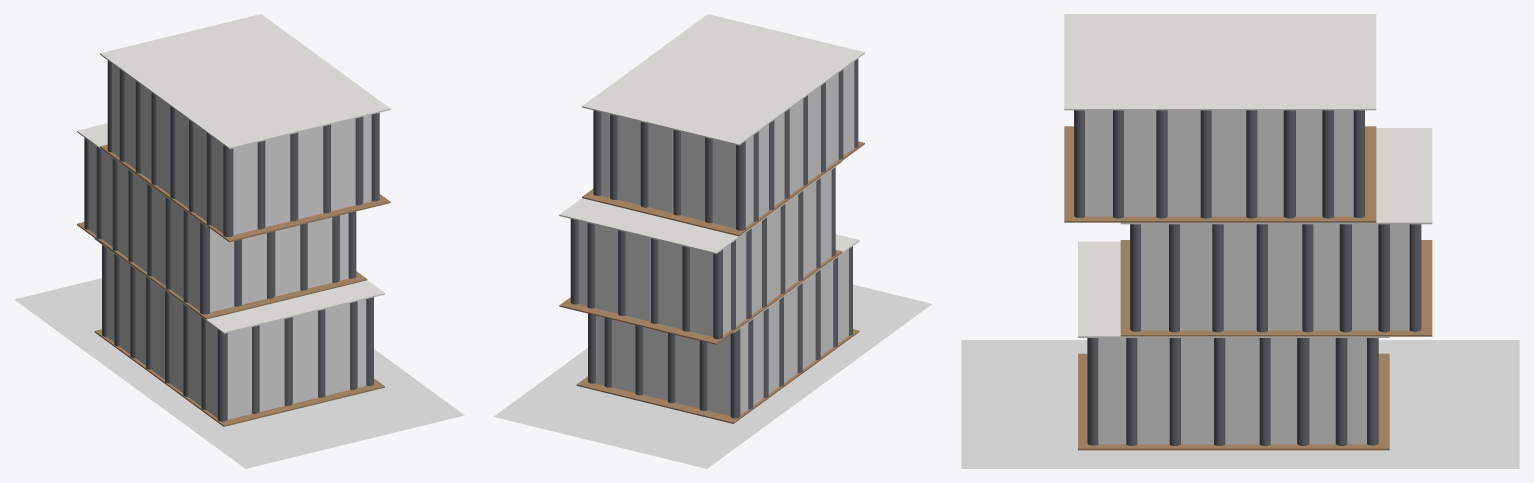
File: house.fbx
The picture shows the model from 3 angles, left to right: view 1: azimuth 30°, elevation 25°; view 2: azimuth 150°, elevation 25°; view 3: azimuth 270°, elevation 25°; orthographic projection. The views are drawn at different scales.
Visible parts, largest first — view 1: Floor_1_Ceiling.004, Plane, Glass_1.019, Glass_1.004, Glass_1.002, Glass_1.011, Glass_1.012, Glass_1.020, Floor_1_Ceiling, Floor_1_Floor.004, Floor_1_Floor, Floor_1_Floor.002 (+31 smaller); view 2: Floor_1_Ceiling.004, Plane, Glass_1.008, Glass_1.017, Glass_1.001, Glass_1.002, Glass_1.012, Glass_1.020, Floor_1_Ceiling.002, Floor_1_Floor.004, Floor_1_Floor, Floor_1_Floor.002 (+30 smaller); view 3: Plane, Floor_1_Ceiling.004, Glass_1.018, Glass_1.009, Glass_1.003, Floor_1_Ceiling.002, Floor_1_Ceiling, Floor_1_Floor, Floor_1_Floor.002, Floor_1_Floor.004, Floor_1_Column_23.004, Floor_1_Column_23.002 (+22 smaller).
Part boxes in pixels (x1,y1,x2,y2): Floor_1_Ceiling.004: (100, 14, 390, 149); Plane: (14, 278, 464, 468); Glass_1.019: (233, 114, 371, 234); Glass_1.004: (227, 299, 366, 419); Glass_1.002: (106, 248, 217, 417); Glass_1.011: (210, 213, 348, 312); Glass_1.012: (88, 141, 199, 310); Glass_1.020: (112, 63, 223, 233); Floor_1_Ceiling: (94, 238, 384, 333); Floor_1_Floor.004: (100, 144, 390, 242); Floor_1_Floor: (94, 329, 384, 426); Floor_1_Floor.002: (77, 222, 367, 319); Floor_1_Ceiling.004: (582, 14, 864, 145); Plane: (493, 284, 931, 468); Glass_1.008: (578, 221, 713, 336); Glass_1.017: (601, 112, 735, 228); Glass_1.001: (596, 315, 730, 416); Glass_1.002: (740, 249, 848, 414); Glass_1.012: (723, 170, 831, 335); Glass_1.020: (745, 62, 854, 226); Floor_1_Ceiling.002: (559, 161, 842, 254); Floor_1_Floor.004: (582, 141, 864, 236); Floor_1_Floor: (576, 329, 859, 423); Floor_1_Floor.002: (559, 250, 842, 344); Plane: (961, 340, 1519, 468); Floor_1_Ceiling.004: (1064, 14, 1376, 110); Glass_1.018: (1085, 110, 1353, 216); Glass_1.009: (1141, 224, 1409, 330); Glass_1.003: (1098, 338, 1366, 444); Floor_1_Ceiling.002: (1120, 128, 1432, 224); Floor_1_Ceiling: (1078, 241, 1389, 337); Floor_1_Floor: (1078, 353, 1389, 450); Floor_1_Floor.002: (1120, 240, 1432, 336); Floor_1_Floor.004: (1064, 126, 1376, 222); Floor_1_Column_23.004: (1283, 110, 1295, 218); Floor_1_Column_23.002: (1339, 224, 1351, 332).
Bounding box in the file's own units: 962 × 1187 × 1759.
